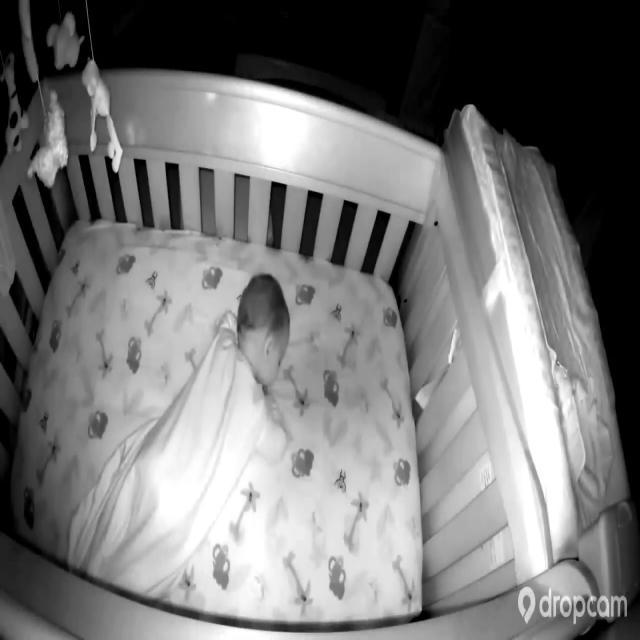baby: (70, 277, 292, 592)
